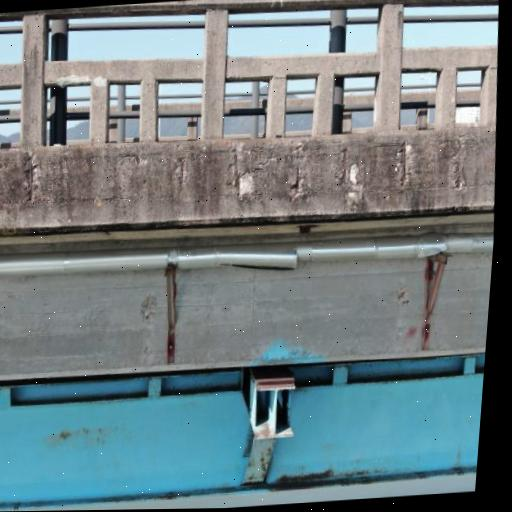exposed_rebar: (456, 140, 462, 189), (294, 144, 299, 197), (234, 153, 240, 193), (342, 150, 347, 186), (29, 158, 33, 200), (401, 144, 405, 184), (179, 158, 184, 189)
